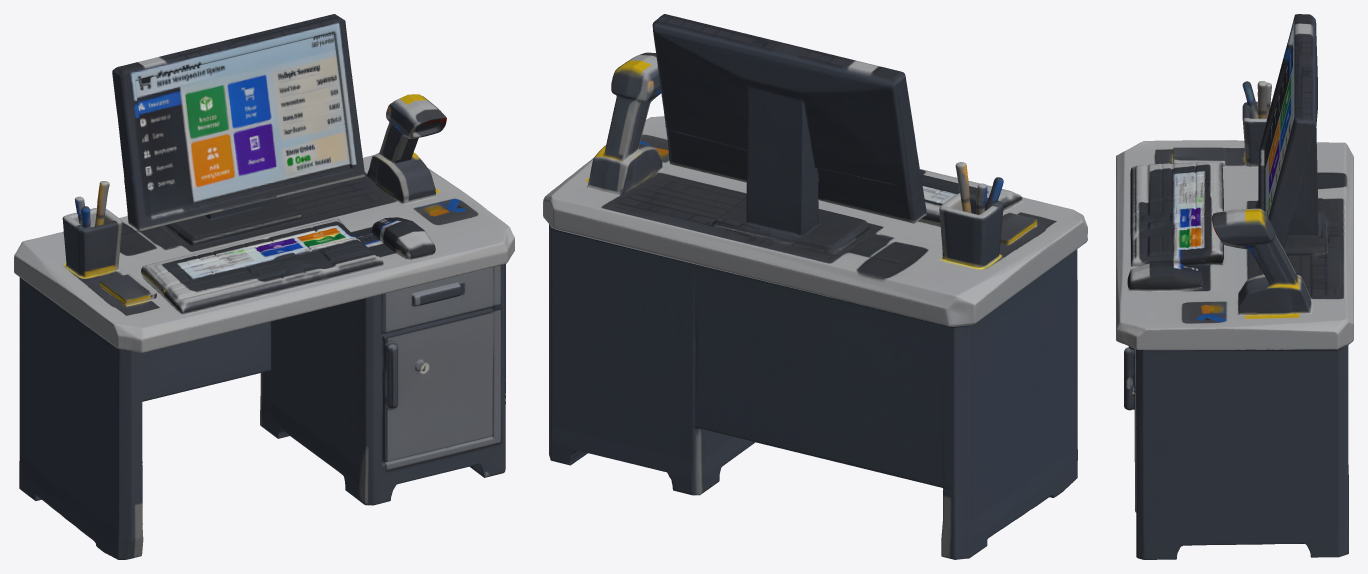
The model's file is office desk 3d model.glb.
The picture shows the model from 3 angles, left to right: view 1: azimuth 30°, elevation 25°; view 2: azimuth 150°, elevation 25°; view 3: azimuth 270°, elevation 25°; orthographic projection. The views are drawn at different scales.
Parts seen in each view (by area): view 1: tripo_node_49ab4f48-1ed4-43c0-b381-44792029002c; view 2: tripo_node_49ab4f48-1ed4-43c0-b381-44792029002c; view 3: tripo_node_49ab4f48-1ed4-43c0-b381-44792029002c.
Part boxes in pixels (box(x1,y1,x2,y2)): tripo_node_49ab4f48-1ed4-43c0-b381-44792029002c: box(14, 14, 514, 559); tripo_node_49ab4f48-1ed4-43c0-b381-44792029002c: box(543, 14, 1087, 559); tripo_node_49ab4f48-1ed4-43c0-b381-44792029002c: box(1116, 14, 1353, 559).
Size of the model in its own units: 1 by 0.9966 by 0.5327.
1 material, 1 textured.
